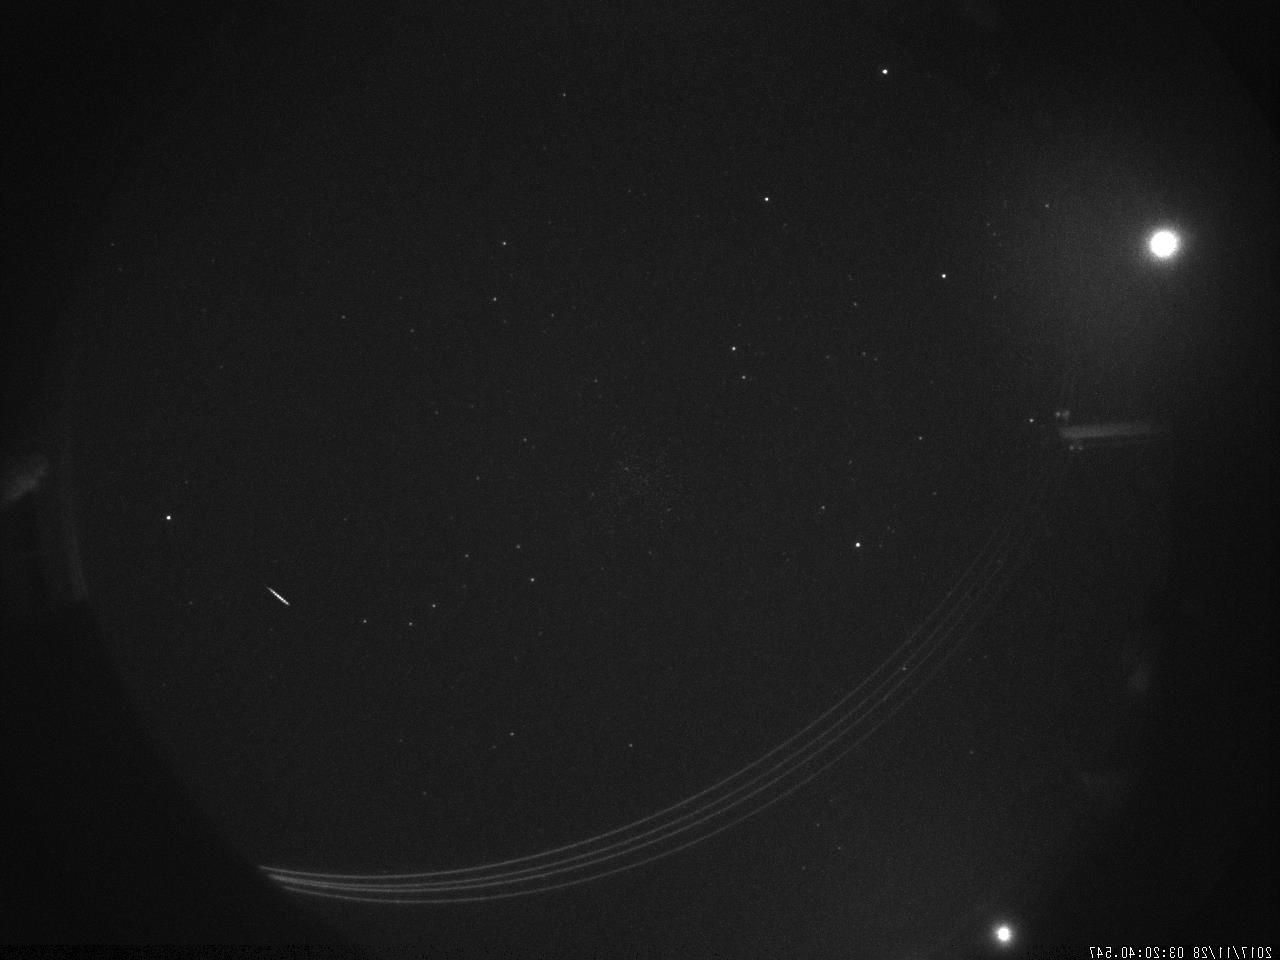meteor: (212, 565, 324, 621)
